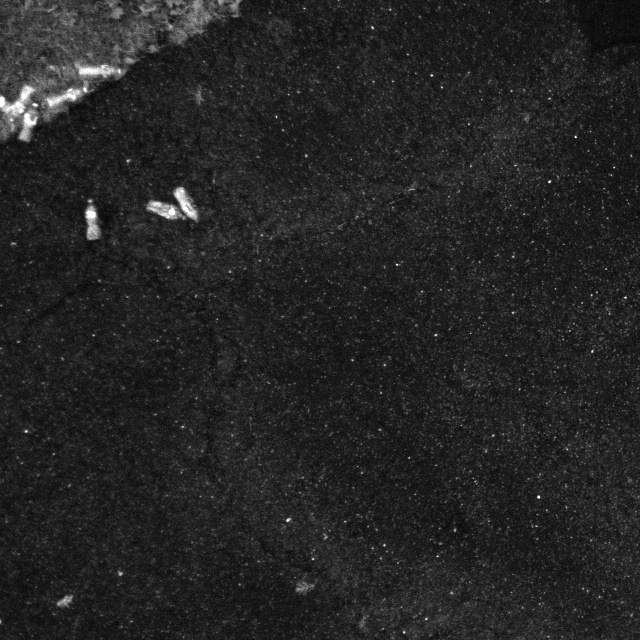bottle: (137, 185, 197, 239), (170, 171, 209, 233), (73, 49, 135, 86), (73, 190, 109, 247), (41, 80, 96, 116)
